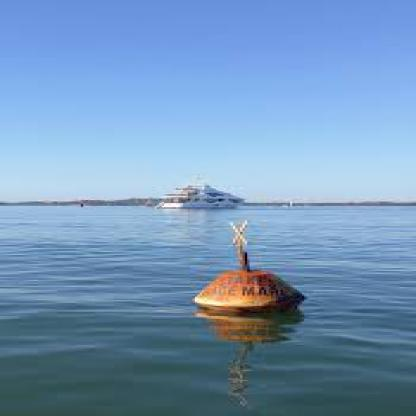buoy: (180, 216, 314, 322)
